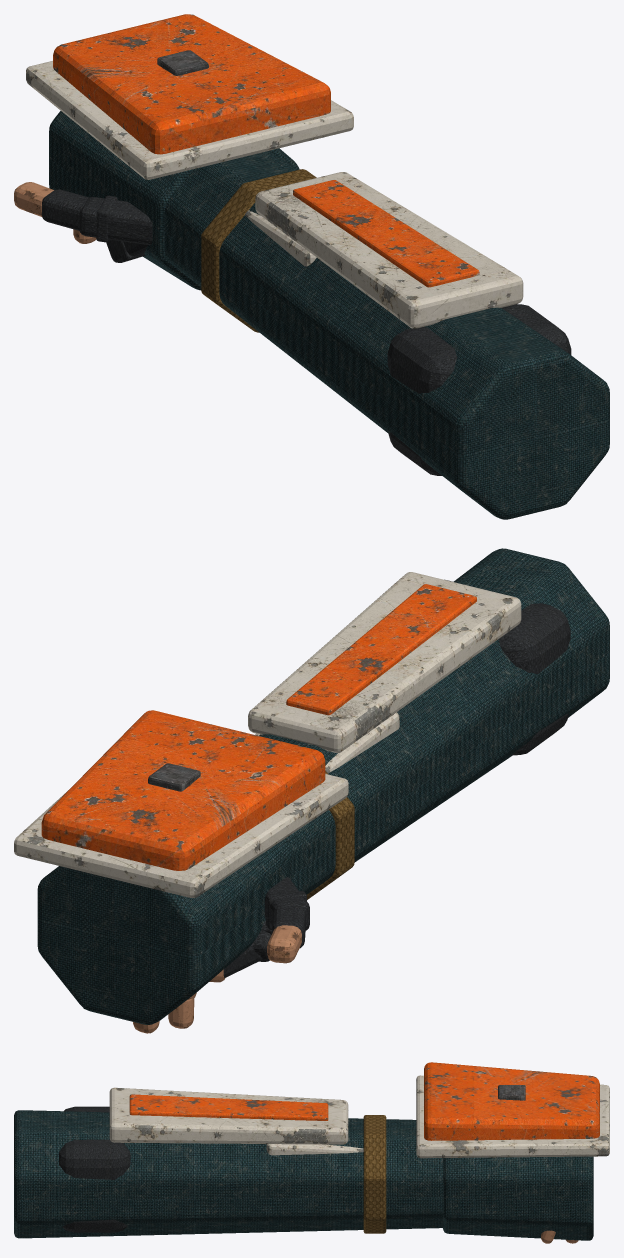
Rendered from hands.glb.
3 views of the same model, one above another, from view 1: azimuth 30°, elevation 25°; view 2: azimuth 150°, elevation 25°; view 3: azimuth 270°, elevation 25° (orthographic). The views are drawn at different scales.
Parts seen in each view (by area): view 1: upperarm | suit fabric, shoulder | knuckle plate, upperarm | ceramic armor, shoulder | ceramic armor, shoulder | suit fabric, upperarm | knuckle plate, forearm | glove leather, support | glove leather, upperarm | webbing, support | skin, forearm | ceramic armor, shoulder | hardware (+1 smaller); view 2: upperarm | suit fabric, shoulder | knuckle plate, shoulder | suit fabric, upperarm | ceramic armor, shoulder | ceramic armor, upperarm | knuckle plate, forearm | glove leather, support | glove leather, support | skin, upperarm | webbing, forearm | ceramic armor, shoulder | hardware (+1 smaller); view 3: upperarm | suit fabric, shoulder | knuckle plate, shoulder | suit fabric, upperarm | ceramic armor, shoulder | ceramic armor, upperarm | knuckle plate, forearm | glove leather, upperarm | webbing, forearm | ceramic armor, shoulder | hardware.
Boxes of the visible parts, x1,y1,x2,y2 form: upperarm | suit fabric: [164, 150, 609, 519]; shoulder | knuckle plate: [53, 14, 330, 154]; upperarm | ceramic armor: [255, 172, 523, 328]; shoulder | ceramic armor: [26, 61, 353, 179]; shoulder | suit fabric: [49, 111, 299, 290]; upperarm | knuckle plate: [293, 180, 479, 287]; forearm | glove leather: [387, 304, 571, 475]; support | glove leather: [41, 189, 152, 244]; upperarm | webbing: [201, 169, 316, 332]; support | skin: [14, 182, 96, 243]; forearm | ceramic armor: [245, 210, 316, 266]; shoulder | hardware: [157, 50, 208, 75]; upperarm | suit fabric: [259, 548, 609, 894]; shoulder | knuckle plate: [41, 710, 325, 870]; shoulder | suit fabric: [37, 838, 293, 1024]; upperarm | ceramic armor: [248, 572, 521, 752]; shoulder | ceramic armor: [14, 774, 348, 897]; upperarm | knuckle plate: [286, 584, 476, 715]; forearm | glove leather: [444, 579, 570, 755]; support | glove leather: [264, 877, 309, 948]; support | skin: [133, 925, 301, 1033]; upperarm | webbing: [307, 771, 354, 899]; forearm | ceramic armor: [255, 712, 399, 773]; shoulder | hardware: [148, 763, 200, 791]; upperarm | suit fabric: [14, 1110, 443, 1238]; shoulder | knuckle plate: [424, 1062, 599, 1140]; shoulder | suit fabric: [443, 1156, 593, 1240]; upperarm | ceramic armor: [109, 1087, 348, 1144]; shoulder | ceramic armor: [416, 1075, 609, 1158]; upperarm | knuckle plate: [129, 1094, 328, 1120]; forearm | glove leather: [59, 1106, 130, 1232]; upperarm | webbing: [363, 1115, 386, 1233]; forearm | ceramic armor: [266, 1144, 363, 1155]; shoulder | hardware: [498, 1085, 525, 1100].
Size of the model in its own units: 0.1602 by 0.1334 by 0.474.
7 materials, 7 textured.
